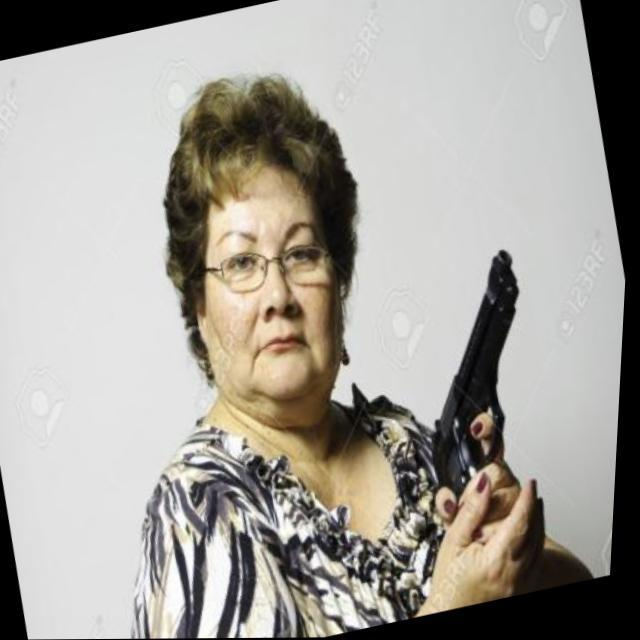weapon: (373, 236, 621, 594)
